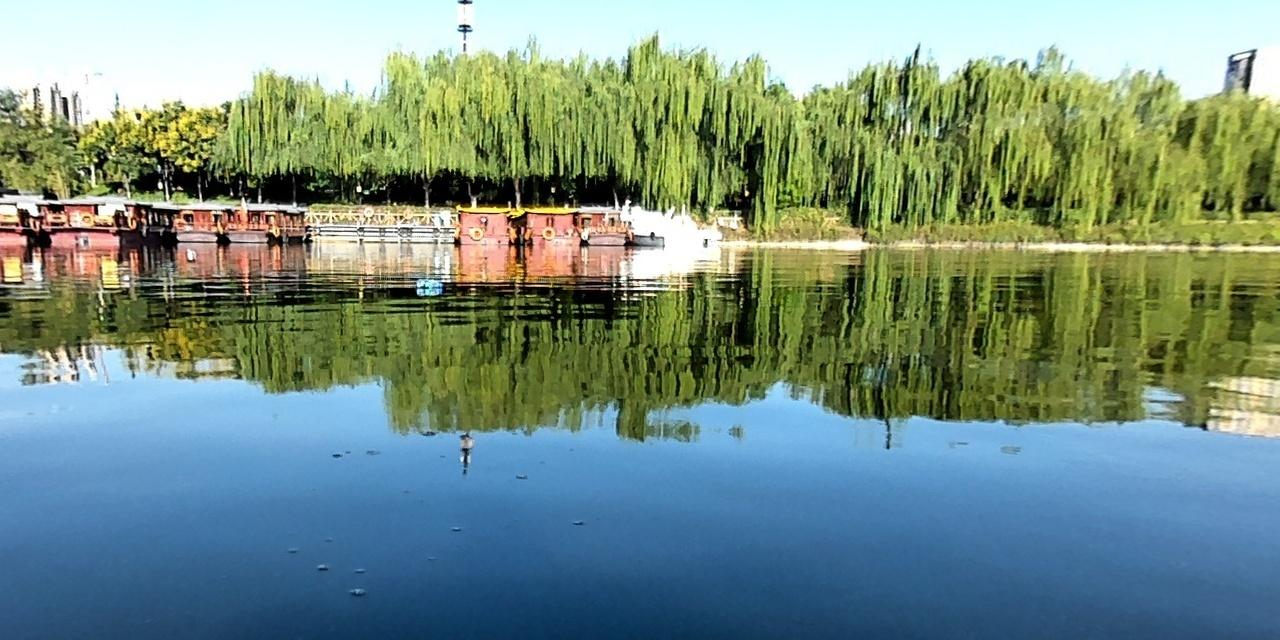bottle: (411, 275, 445, 288)
